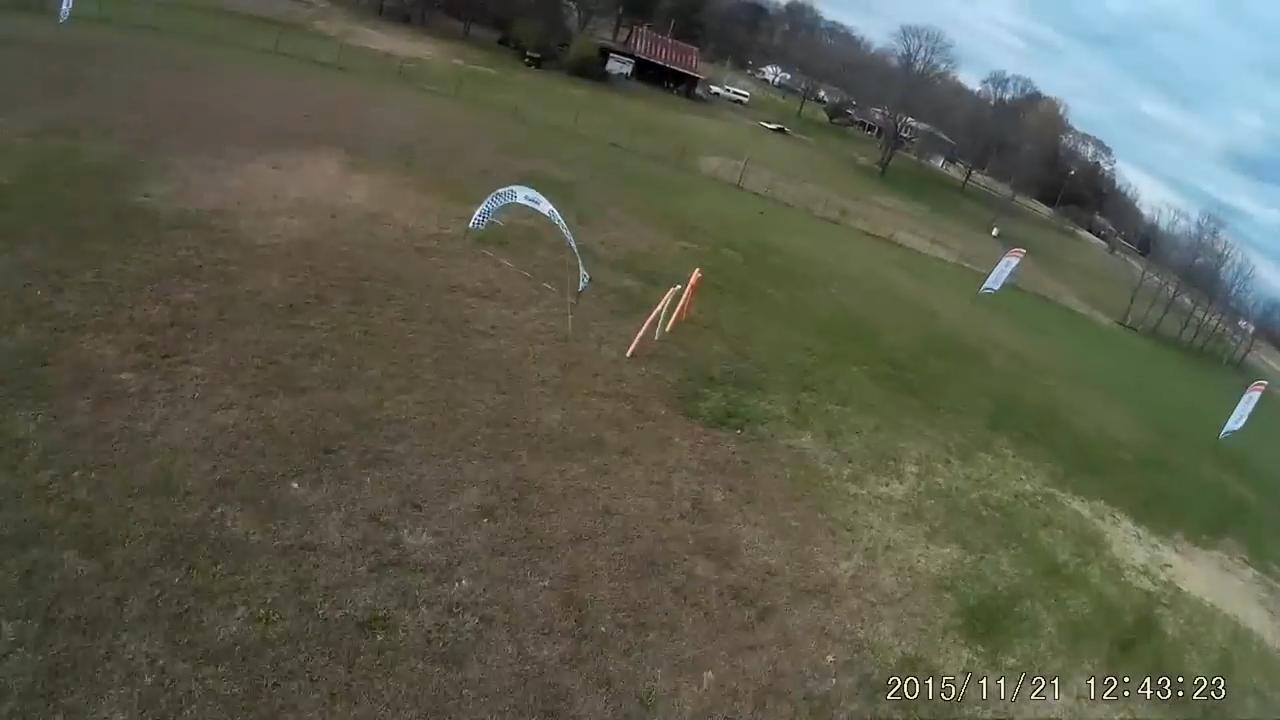gate: (470, 182, 594, 304)
